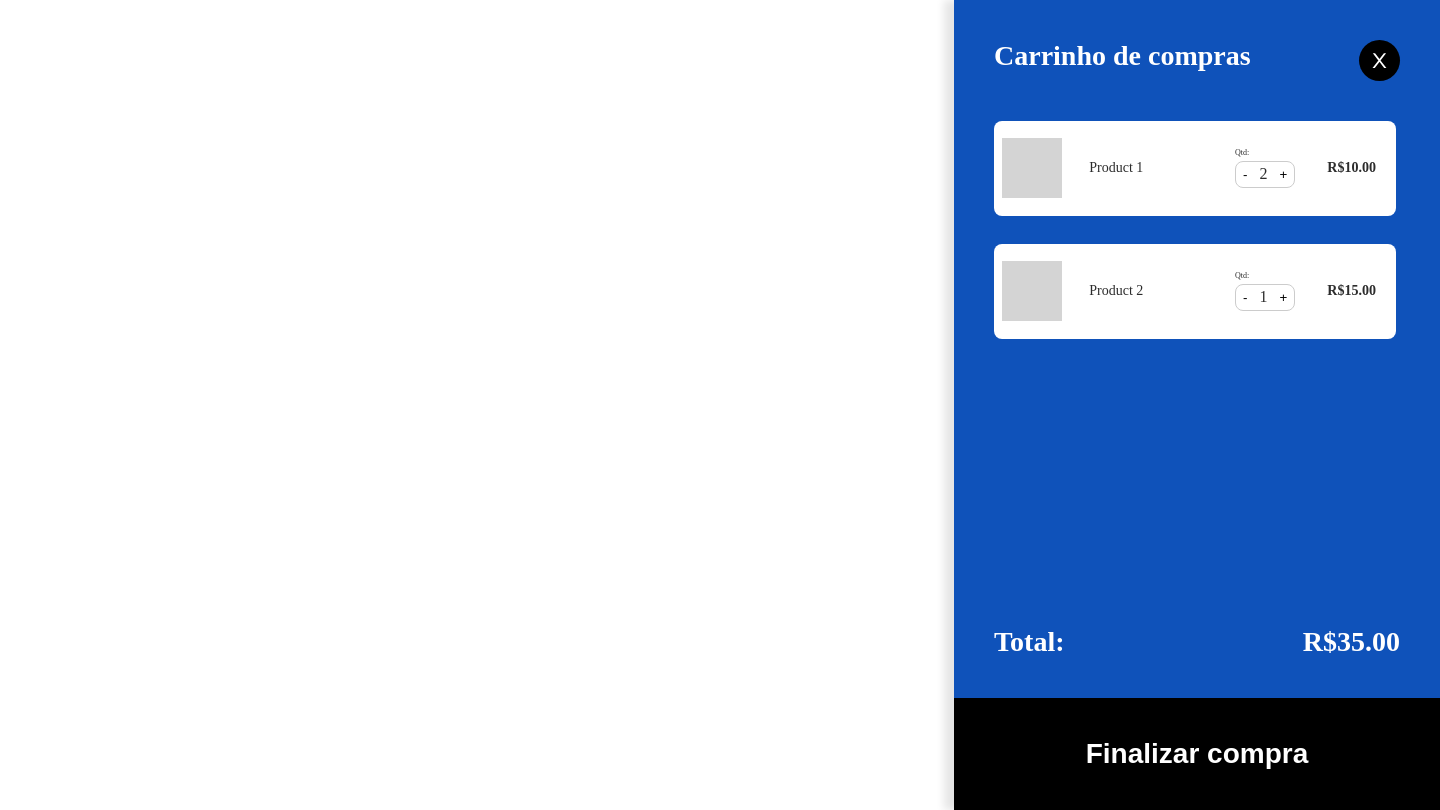
Test: Cart component › opens modal when "Finalizar compra" button is clicked
Click the button "Finalizar compra". click: (1197, 754)
box: [954,698,1439,809]
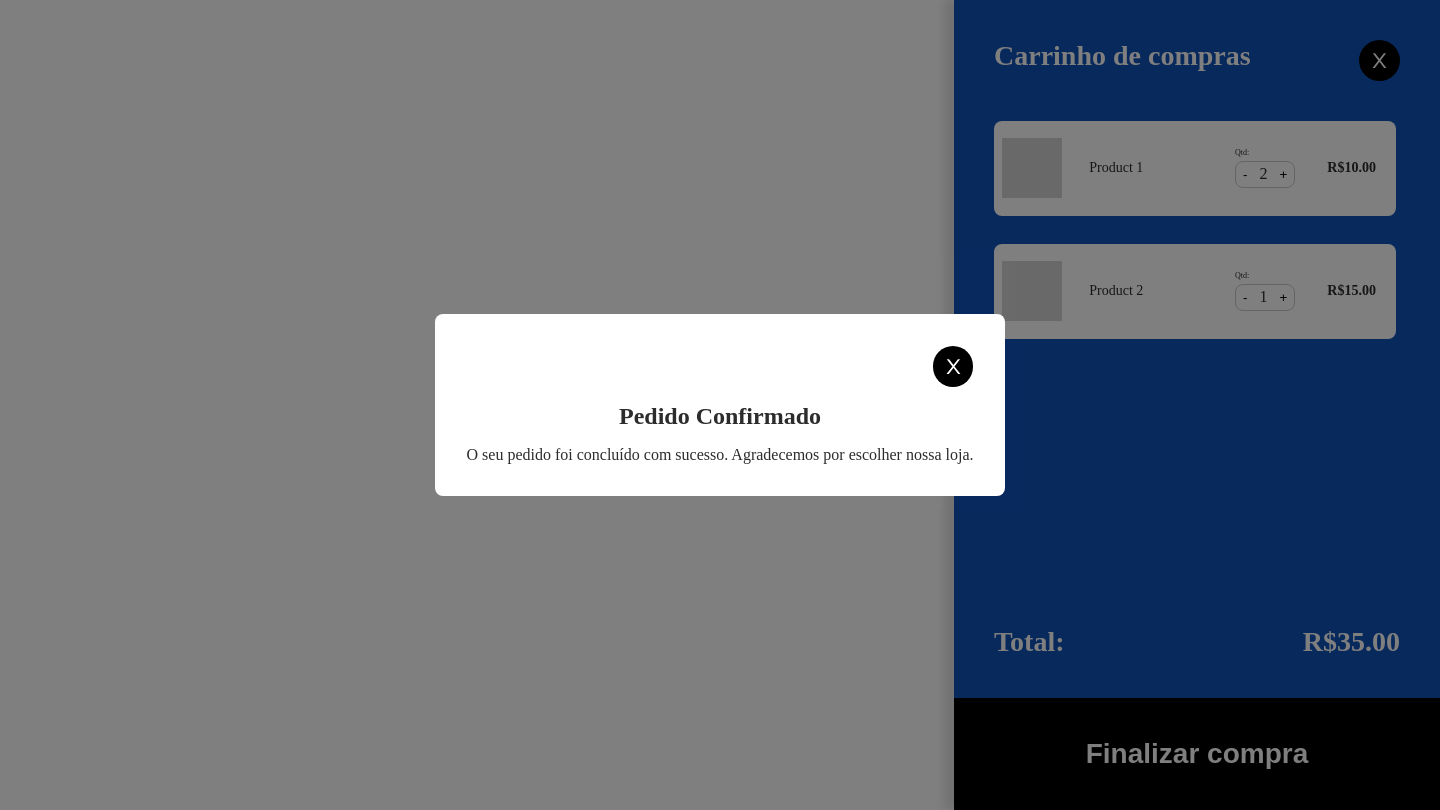
Expected: the heading "Pedido Confirmado" is shown, [619,403,821,429]
